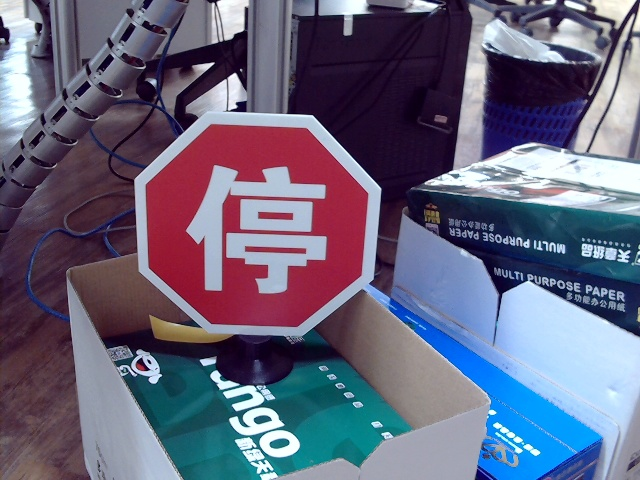stop: (182, 158, 325, 296)
